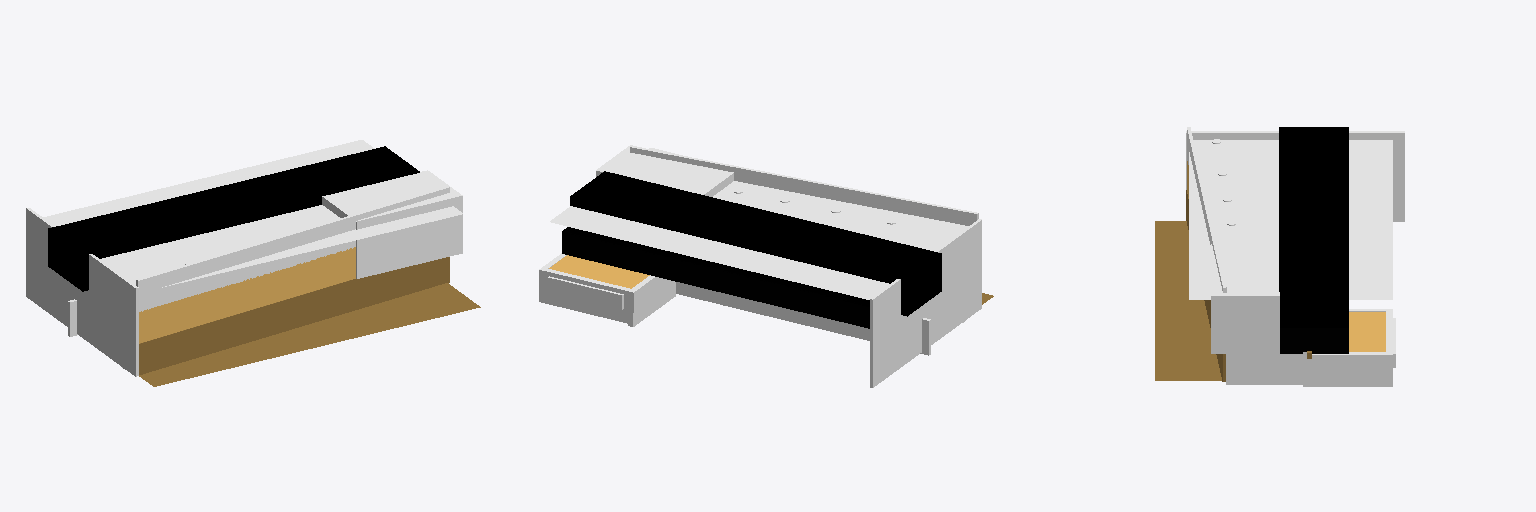
Rendered from School.obj.
3 views of the same model, side by side, from view 1: azimuth 30°, elevation 25°; view 2: azimuth 150°, elevation 25°; view 3: azimuth 270°, elevation 25° (orthographic).
Visible parts, largest first — view 1: Cube.4, Plane.8, Plane, Wall_8, Wall_3, Wall_10, Wall_2, Cube.2, Firstwall, Firstwall.1, Cube_1, Firstwall.2 (+4 smaller); view 2: Cube.4, Plane.8, Cube.9, Firstwall, Cube.2, Firstwall.1, Wall_10, Cube.3, Firstwall.2, Wall_9, Plane.1, Wall (+5 smaller); view 3: Plane.8, Cube.4, Plane, Cube.2, Cube.2_2, Cube.9, Firstwall.2, Plane.1, Cube_1, Cube.1, Wall_5, Cube.3 (+1 smaller).
Part boxes in pixels (bbox=[...]): Cube.4: bbox=[48, 146, 419, 272]; Plane.8: bbox=[43, 140, 462, 287]; Plane: bbox=[139, 283, 480, 386]; Wall_8: bbox=[139, 259, 316, 343]; Wall_3: bbox=[139, 290, 316, 374]; Wall_10: bbox=[136, 226, 316, 311]; Wall_2: bbox=[272, 257, 449, 334]; Cube.2: bbox=[322, 170, 462, 240]; Firstwall: bbox=[26, 265, 138, 376]; Firstwall.1: bbox=[26, 233, 138, 344]; Cube_1: bbox=[356, 234, 462, 278]; Firstwall.2: bbox=[26, 208, 138, 318]; Cube.4: bbox=[570, 171, 941, 297]; Plane.8: bbox=[550, 148, 968, 299]; Cube.9: bbox=[562, 227, 869, 328]; Firstwall: bbox=[870, 277, 981, 387]; Cube.2: bbox=[596, 145, 733, 196]; Firstwall.1: bbox=[870, 245, 981, 355]; Wall_10: bbox=[778, 175, 978, 225]; Cube.3: bbox=[570, 227, 941, 316]; Firstwall.2: bbox=[870, 219, 981, 328]; Wall_9: bbox=[630, 146, 827, 197]; Plane.1: bbox=[549, 255, 649, 288]; Wall: bbox=[543, 268, 633, 323]; Plane.8: bbox=[1189, 140, 1392, 299]; Cube.4: bbox=[1279, 127, 1348, 310]; Plane: bbox=[1155, 221, 1221, 380]; Cube.2: bbox=[1211, 244, 1279, 315]; Cube.2_2: bbox=[1307, 352, 1392, 386]; Cube.9: bbox=[1280, 328, 1348, 353]; Firstwall.2: bbox=[1186, 131, 1404, 164]; Plane.1: bbox=[1349, 312, 1385, 351]; Cube_1: bbox=[1211, 334, 1279, 353]; Cube.1: bbox=[1211, 314, 1279, 333]; Wall_5: bbox=[1262, 354, 1302, 384]; Cube.3: bbox=[1280, 309, 1348, 327].
Size of the model in its own units: 11448 by 3076 by 7081.